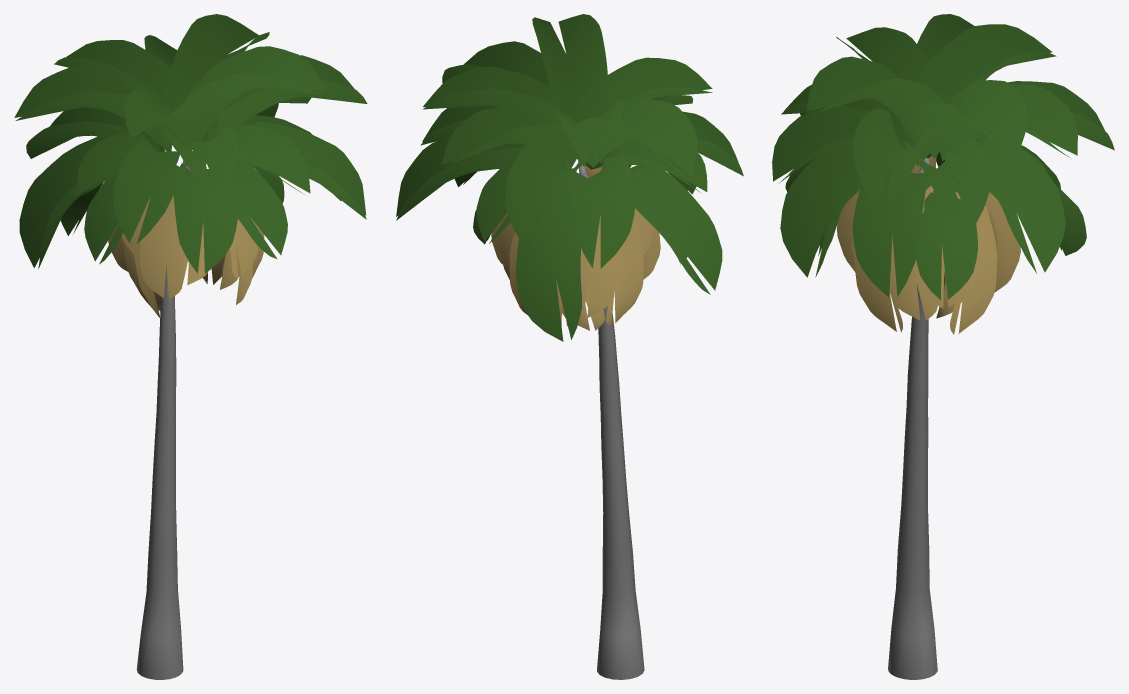
The model's file is SM_palm_tree_tropical_01.fbx.
3 views of the same model, side by side, from view 1: azimuth 30°, elevation 25°; view 2: azimuth 150°, elevation 25°; view 3: azimuth 270°, elevation 25° (orthographic). The views are drawn at different scales.
Parts seen in each view (by area): view 1: Object015; view 2: Object015; view 3: Object015.
Boxes of the visible parts, <box> form: Object015: <box>14,14,367,679</box>; Object015: <box>396,14,743,679</box>; Object015: <box>772,14,1114,679</box>.
Size of the model in its own units: 137 by 263 by 128.
